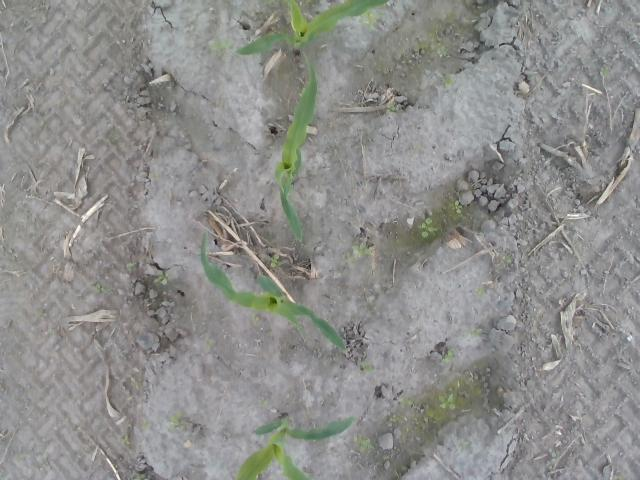Maize: (200, 231, 350, 355), (276, 51, 321, 244), (236, 2, 392, 56), (238, 412, 356, 478)
Weeds: (361, 11, 382, 32), (207, 40, 234, 56), (418, 218, 438, 239), (166, 411, 184, 434), (356, 437, 376, 457), (349, 242, 371, 258), (439, 394, 456, 410), (154, 270, 168, 288), (92, 283, 110, 297), (440, 349, 454, 364), (362, 362, 376, 376), (400, 397, 414, 411), (470, 327, 486, 338), (443, 74, 455, 87), (271, 252, 280, 269), (257, 396, 270, 406), (438, 47, 448, 59), (454, 201, 462, 214), (206, 338, 216, 348), (140, 422, 150, 432), (502, 257, 512, 266), (126, 262, 134, 273), (254, 314, 262, 324), (389, 104, 399, 111), (124, 437, 131, 446), (477, 289, 487, 295), (602, 68, 608, 76)
